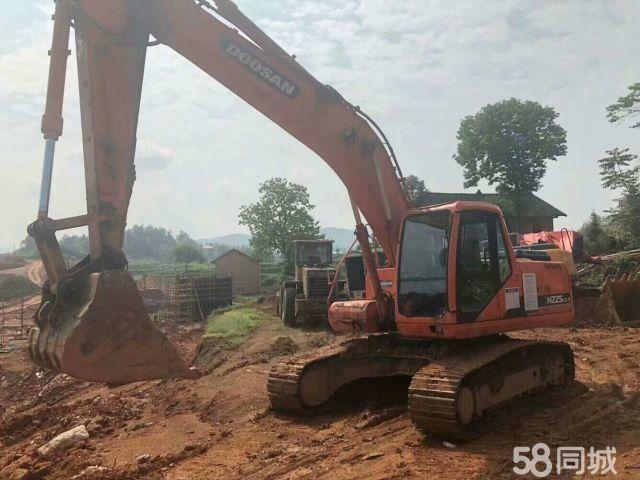excavator: (12, 1, 587, 451)
